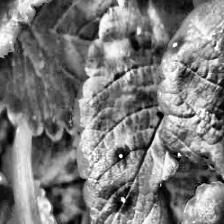Leaf Spot: (75, 0, 196, 224), (158, 0, 224, 224), (0, 0, 58, 161)
